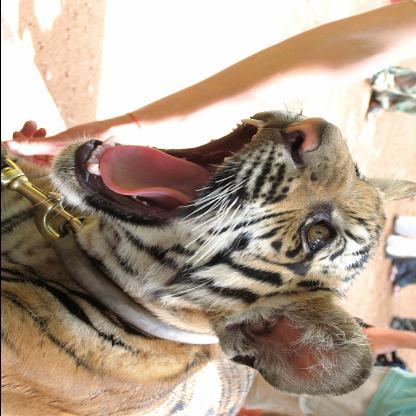tiger: (52, 94, 386, 390)
